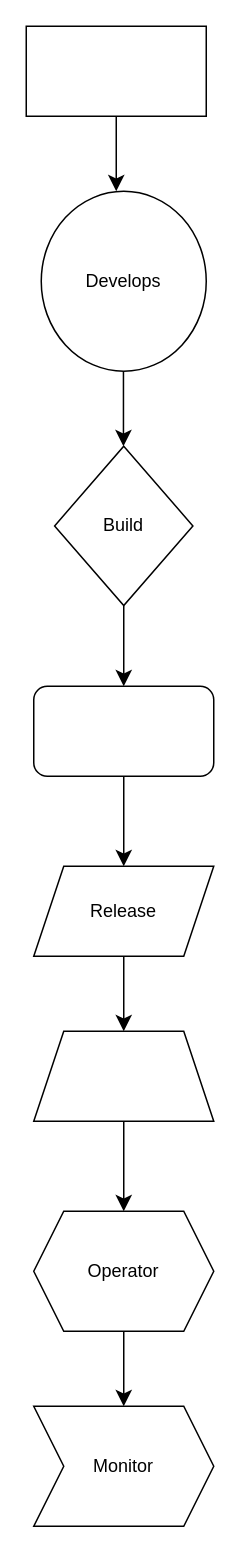
This 240x1553 diagram has some shape labels left out. Each missing label, with the box of its shape:
Deploy: (32, 1030, 214, 1121)
Plan: (25, 25, 206, 116)
Text: (32, 685, 214, 776)
